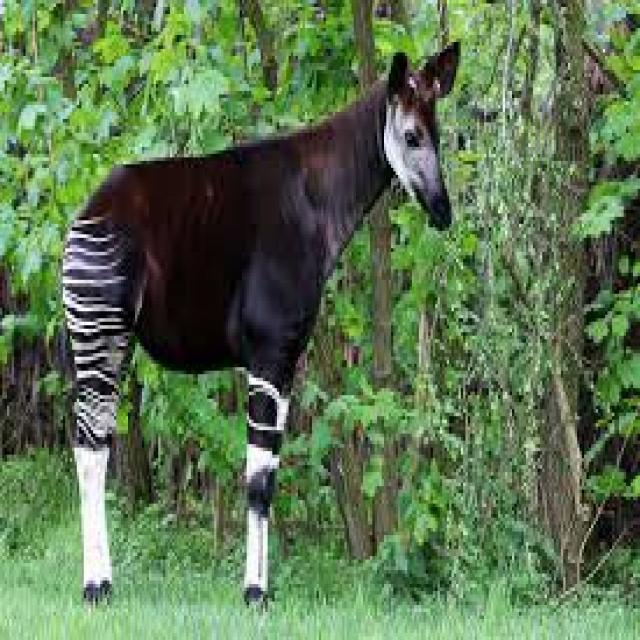Okapi: (55, 35, 468, 612)
